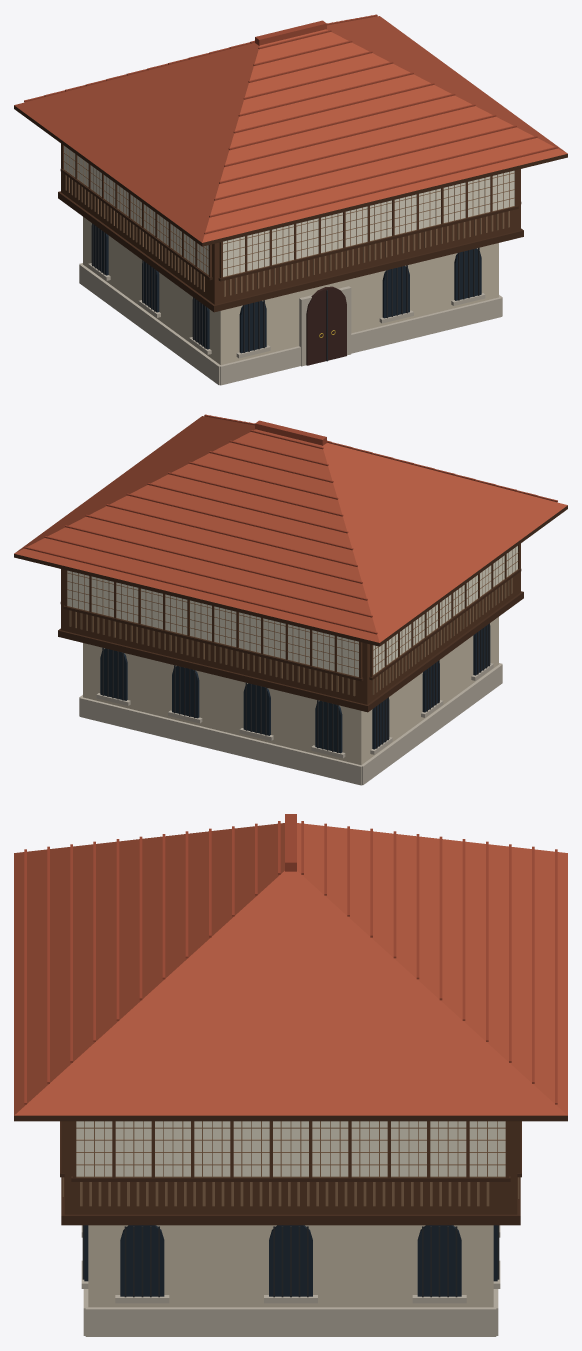
File: colonial.glb
3 views of the same model, one above another, from view 1: azimuth 30°, elevation 25°; view 2: azimuth 150°, elevation 25°; view 3: azimuth 270°, elevation 25° (orthographic). The views are drawn at different scales.
Parts seen in each view (by area): view 1: colonial; view 2: colonial; view 3: colonial.
Boxes of the visible parts, bbox=[...] form: colonial: bbox=[14, 14, 567, 385]; colonial: bbox=[14, 414, 567, 785]; colonial: bbox=[14, 814, 567, 1336].
Size of the model in its own units: 18.4 by 12.95 by 16.4.
